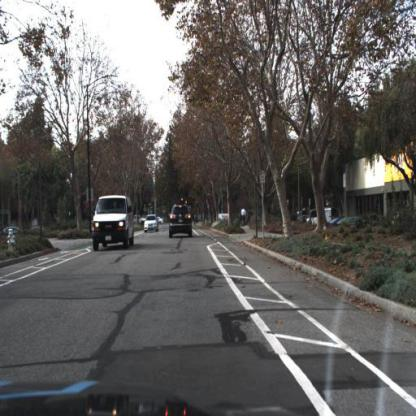car: (90, 192, 138, 253), (168, 205, 195, 241), (144, 214, 159, 233)
truck: (308, 208, 333, 226)
